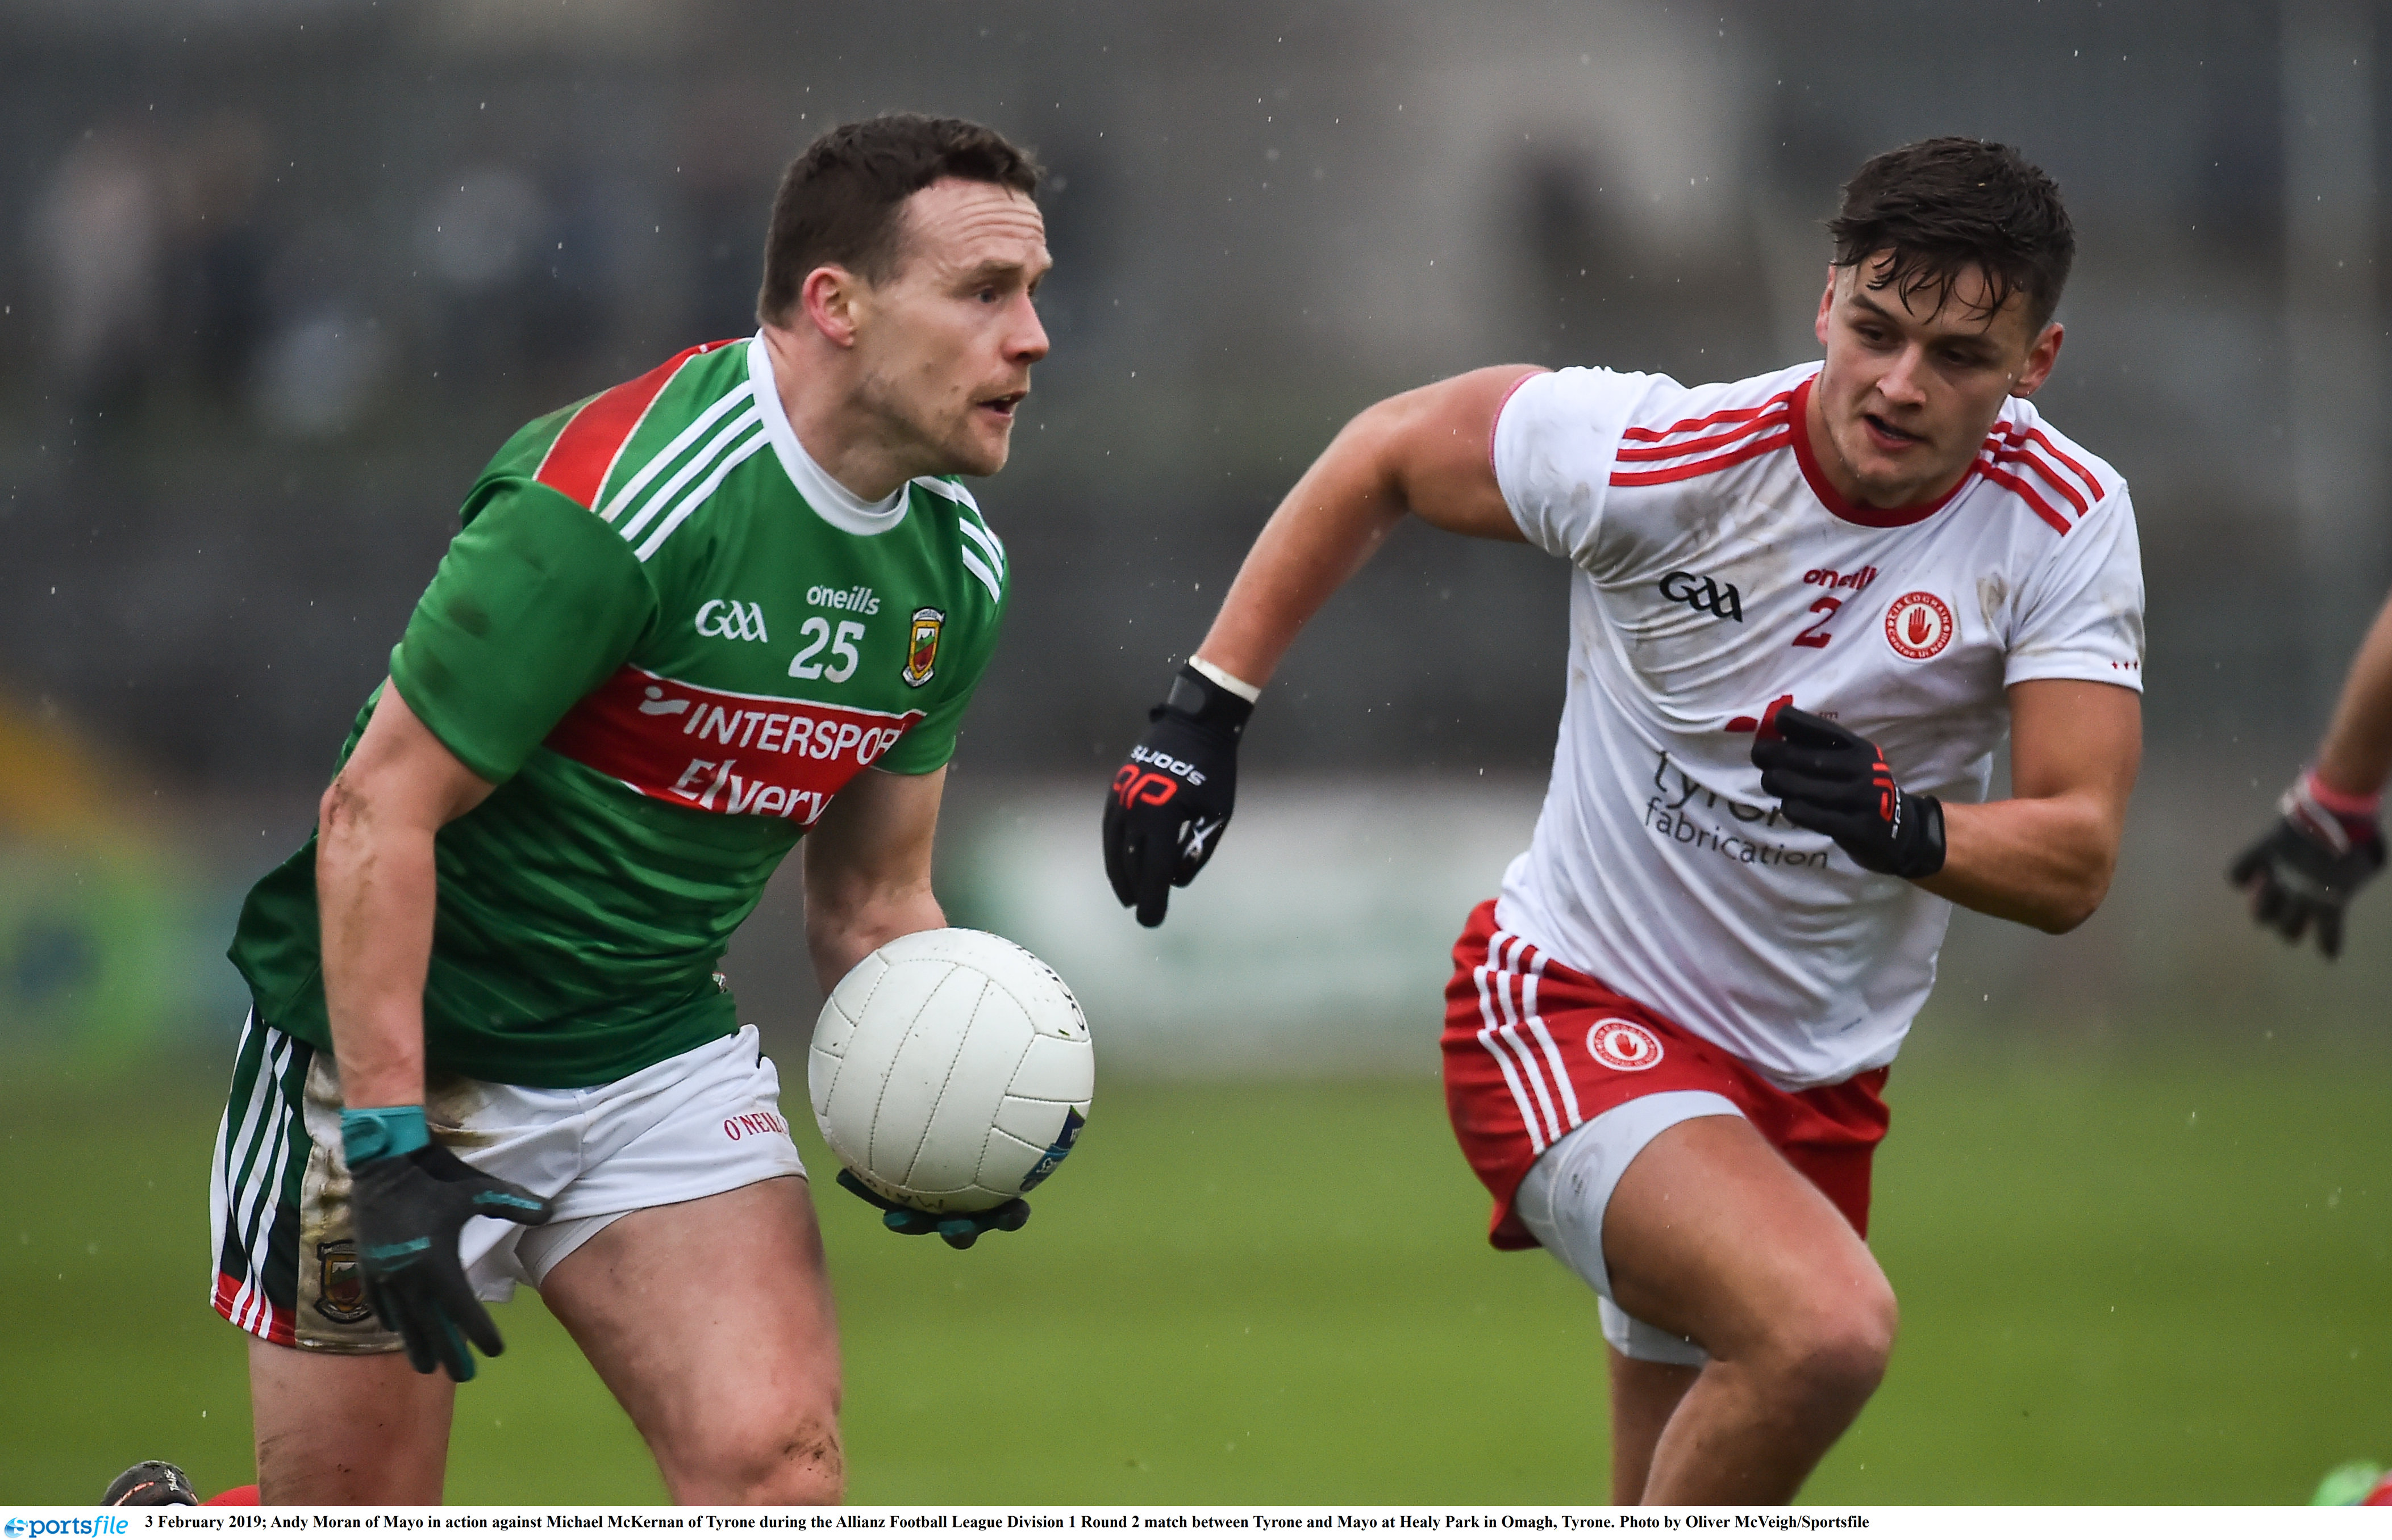ball: (788, 915, 1112, 1216)
player: (258, 93, 1095, 1451), (1428, 85, 2127, 1425)
